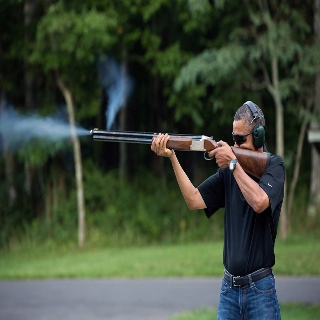shotgun: (89, 127, 271, 180)
